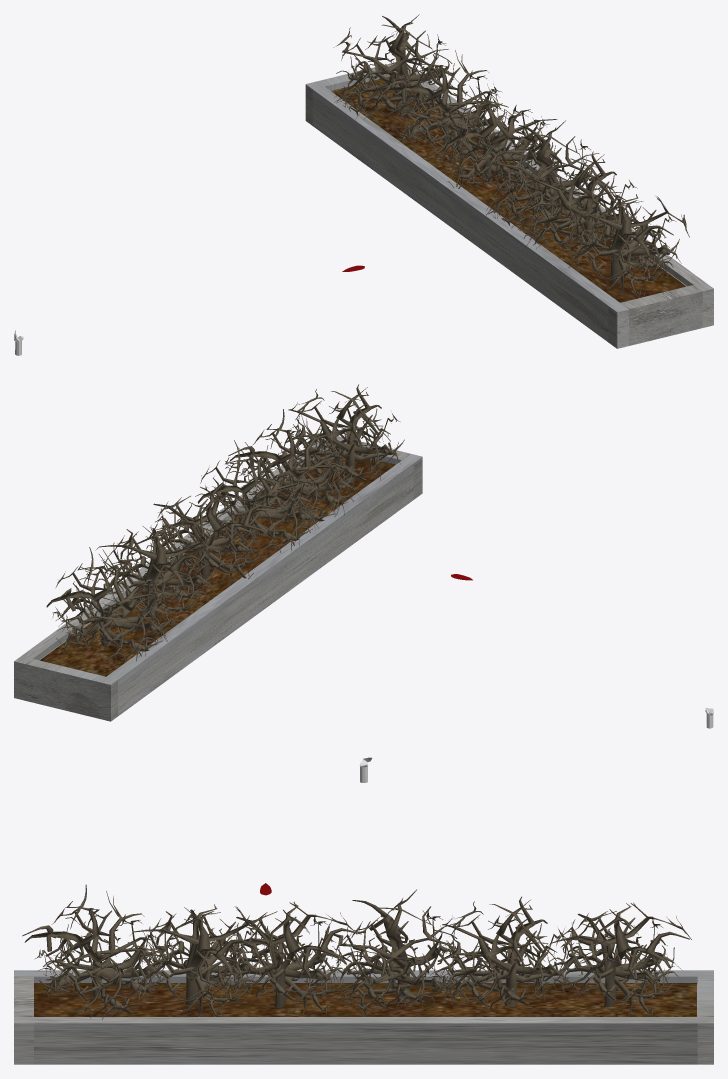
The model's file is bush.gltf.
3 views of the same model, one above another, from view 1: azimuth 30°, elevation 25°; view 2: azimuth 150°, elevation 25°; view 3: azimuth 270°, elevation 25° (orthographic). The views are drawn at different scales.
Parts seen in each view (by area): view 1: Cube, 平面, tree, tree.004, tree.003, tree.005, tree.001, tree.002; view 2: Cube, 平面, tree.005, tree.004, tree.002, tree.003, tree, tree.001; view 3: Cube, 平面, tree, tree.004, tree.005, tree.003, tree.001, tree.002.
Part boxes in pixels (box(x1,y1,x2,y2)): Cube: box(305, 62, 713, 348); 平面: box(331, 76, 686, 302); tree: box(561, 194, 689, 297); tree.004: box(379, 44, 508, 165); tree.003: box(430, 86, 559, 196); tree.005: box(333, 14, 459, 125); tree.001: box(511, 151, 641, 258); tree.002: box(478, 120, 604, 228); Cube: box(14, 436, 422, 721); 平面: box(40, 449, 395, 676); tree.005: box(46, 547, 177, 666); tree.004: box(95, 524, 224, 627); tree.002: box(195, 440, 323, 556); tree.003: box(146, 485, 276, 585); tree: box(278, 384, 404, 482); tree.001: box(228, 409, 359, 529); Cube: box(14, 970, 713, 1064); 平面: box(34, 983, 696, 1016); tree: box(22, 884, 166, 1019); tree.004: box(425, 896, 572, 1016); tree.005: box(546, 902, 691, 1016); tree.003: box(322, 889, 464, 1016); tree.001: box(130, 904, 275, 1016); tree.002: box(213, 901, 361, 1015).
Size of the model in its own units: 15.22 by 3.57 by 14.88.
4 materials, 2 textured.
